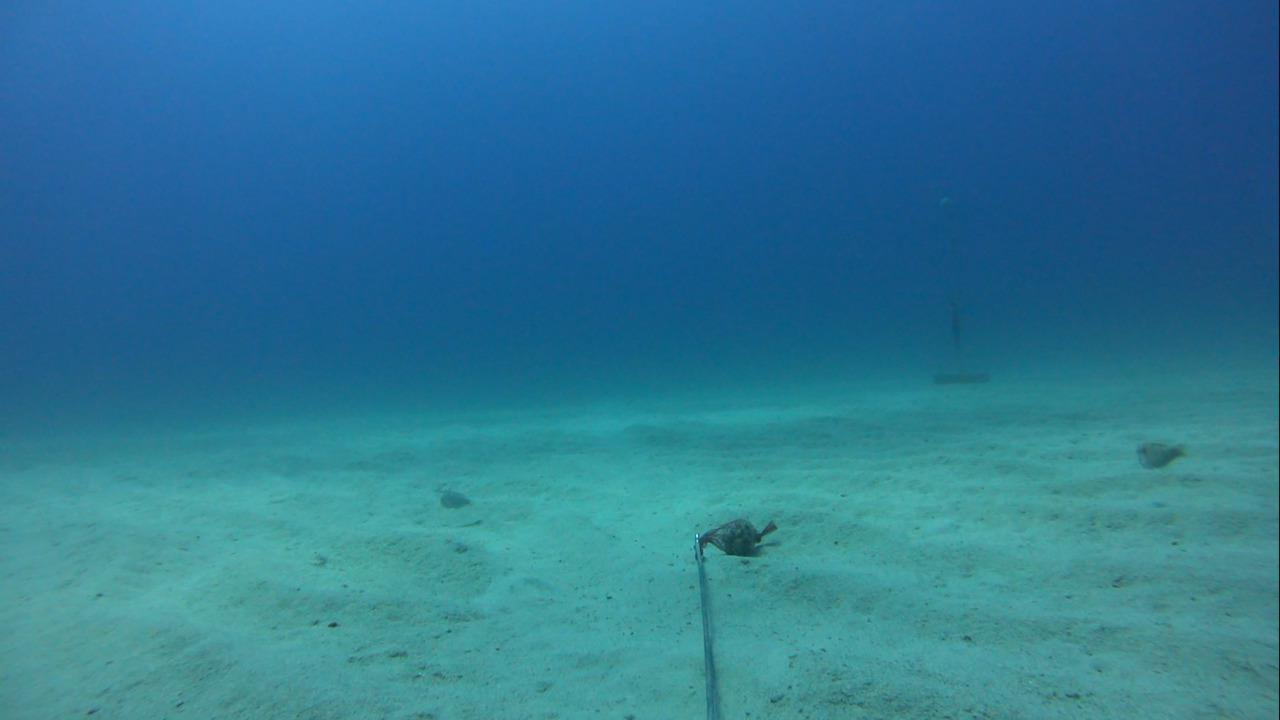raor: (1121, 432, 1194, 479), (424, 481, 478, 512)
